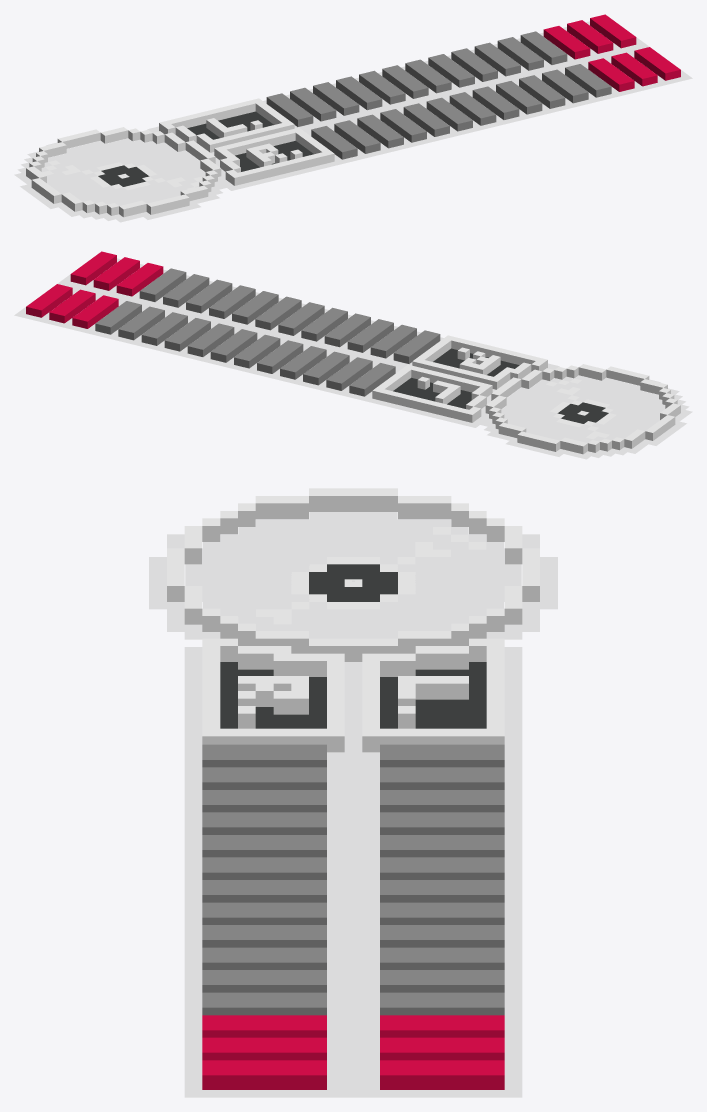
Rendered from DOT_AO.fbx.
3 views of the same model, one above another, from view 1: azimuth 30°, elevation 25°; view 2: azimuth 150°, elevation 25°; view 3: azimuth 270°, elevation 25° (orthographic). The views are drawn at different scales.
Visible parts, largest first — view 1: vu1; view 2: vu1; view 3: vu1.
Boxes of the visible parts, x1,y1,x2,y2 form: vu1: [14, 14, 692, 222]; vu1: [14, 251, 692, 459]; vu1: [149, 488, 557, 1097].
Bounding box in the file's own units: 0.07 × 0.000869 × 0.0201.
